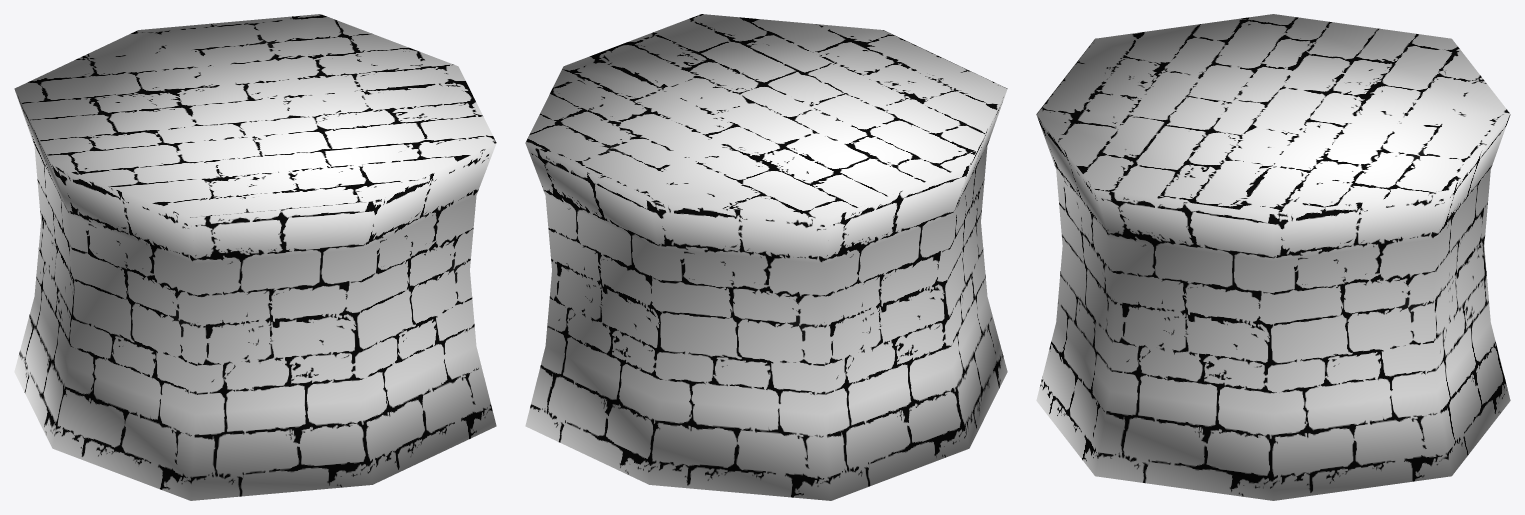
Rendered from BurgSäule.fbx.
3 renders of one model, left to right at view 1: azimuth 30°, elevation 25°; view 2: azimuth 150°, elevation 25°; view 3: azimuth 270°, elevation 25°, orthographic.
Parts seen in each view (by area): view 1: BurgSäule; view 2: BurgSäule; view 3: BurgSäule.
Boxes of the visible parts, x1,y1,x2,y2 form: BurgSäule: (14,14,496,500); BurgSäule: (525,14,1007,500); BurgSäule: (1036,14,1510,500).
Bounding box in the file's own units: 3 × 2 × 3.
